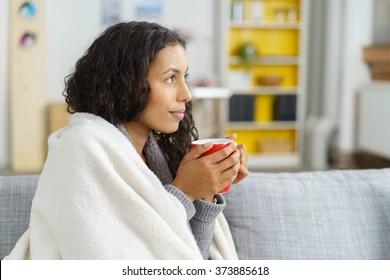blanket: (2, 107, 242, 261)
